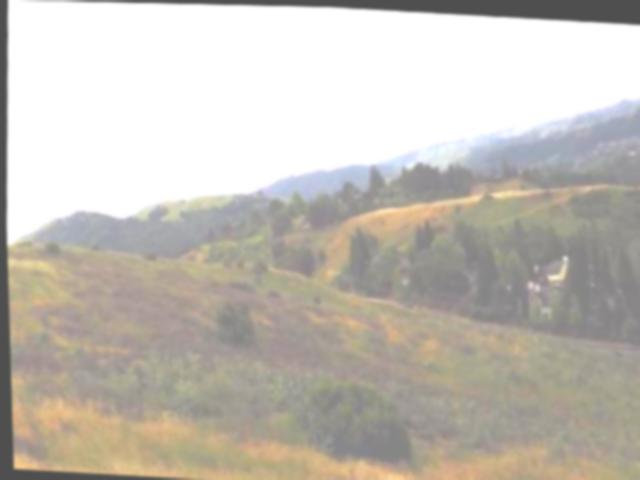iha: (129, 161, 173, 186)
